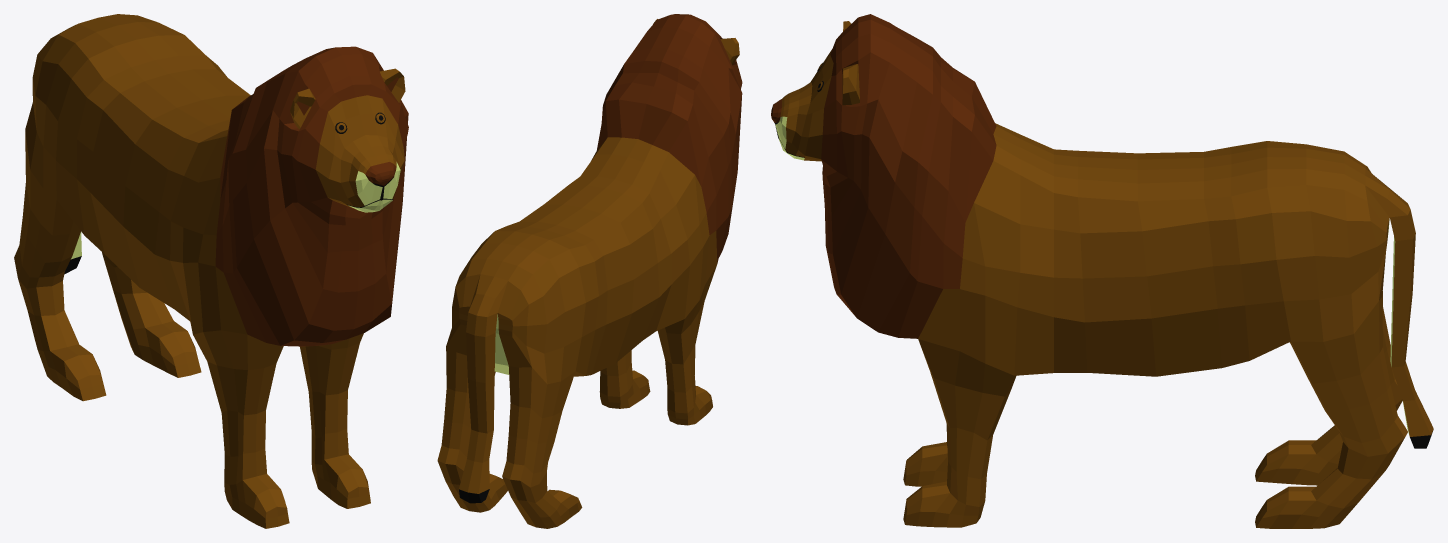
Rendered from lion.obj.
3 views of the same model, side by side, from view 1: azimuth 30°, elevation 25°; view 2: azimuth 150°, elevation 25°; view 3: azimuth 270°, elevation 25° (orthographic). The views are drawn at different scales.
Visible parts, largest first — view 1: Plane_?????????; view 2: Plane_?????????; view 3: Plane_?????????.
Boxes of the visible parts, x1,y1,x2,y2 form: Plane_?????????: [14, 14, 408, 528]; Plane_?????????: [437, 14, 742, 528]; Plane_?????????: [771, 14, 1433, 528].
Bounding box in the file's own units: 3.66 × 10.42 × 13.03.
